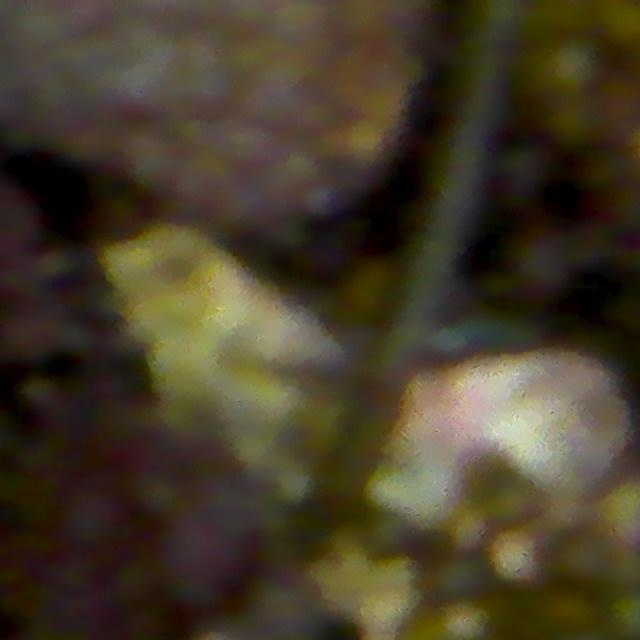SeaGrape: (538, 38, 603, 99)
